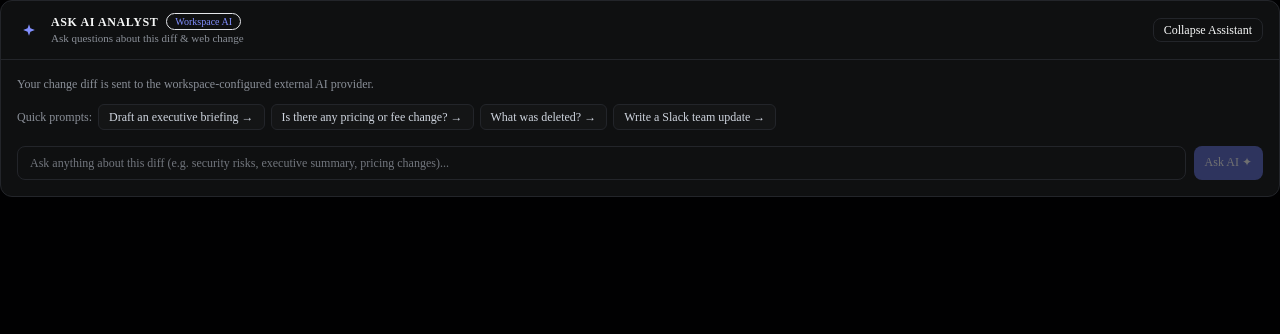
Scenario: DiffAiAssistant › shows a loading state, then renders the answer for a quick prompt
Later steps or results of the test are not shown.
Click the button "Is there any pricing or fee change? →": click(372, 116) [271, 104, 474, 130]
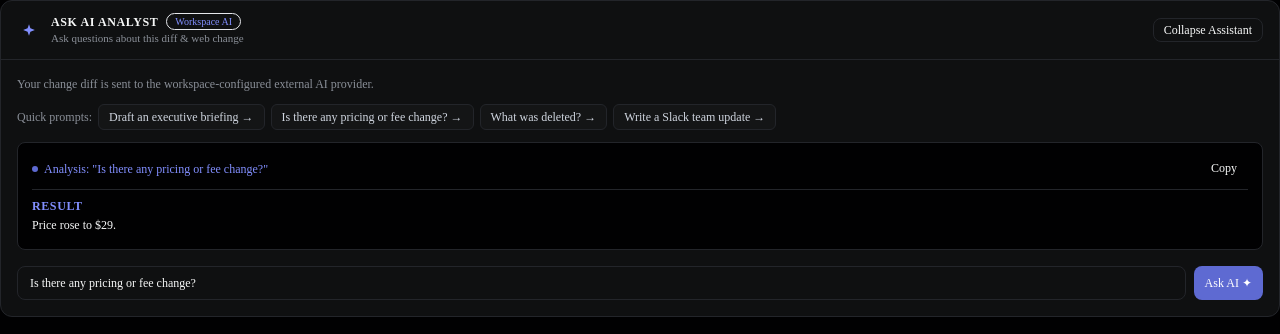
Check: the heading "Result" is shown, box [32, 198, 82, 212]
